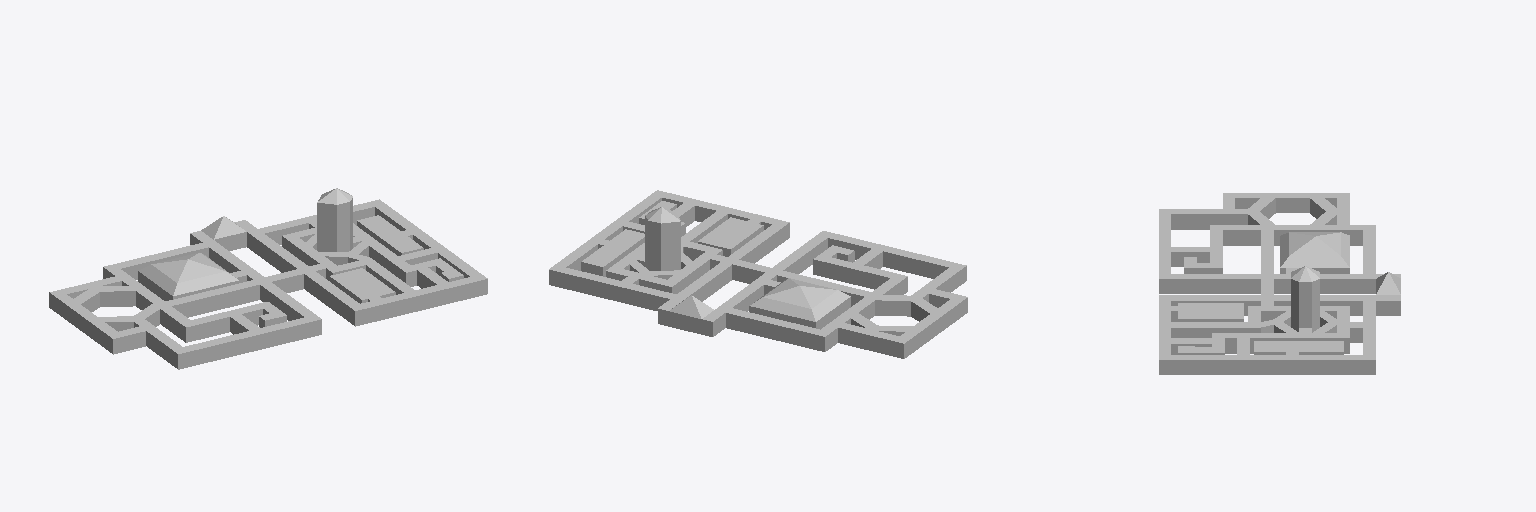
File: ENVI_SquareTunnel.obj
The picture shows the model from 3 angles: view 1: azimuth 30°, elevation 25°; view 2: azimuth 150°, elevation 25°; view 3: azimuth 270°, elevation 25°; orthographic projection.
Parts seen in each view (by area): view 1: ENVI_SquareTunnel; view 2: ENVI_SquareTunnel; view 3: ENVI_SquareTunnel.
Part boxes in pixels (x1,y1,x2,y2): ENVI_SquareTunnel: (49,188,487,369); ENVI_SquareTunnel: (549,190,967,358); ENVI_SquareTunnel: (1159,193,1400,374).
Size of the model in its own units: 69.75 by 13.88 by 42.75.